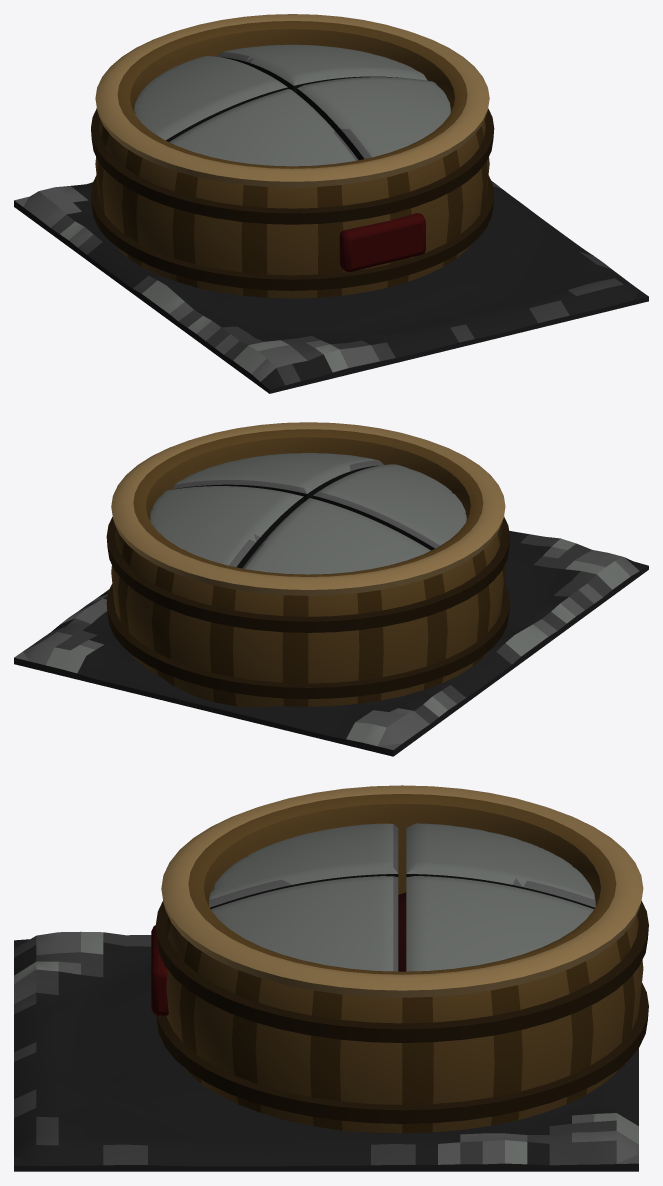
Rendered from eye_tub_193.glb.
The picture shows the model from 3 angles, top to bottom: view 1: azimuth 30°, elevation 25°; view 2: azimuth 150°, elevation 25°; view 3: azimuth 270°, elevation 25°; orthographic projection. The views are drawn at different scales.
Visible parts, largest first — view 1: floor, tub, rim, iris2, iris3, band6.0, band2.0, iris1, iris0, front_light; view 2: tub, floor, rim, iris1, iris0, band6.0, iris2, band2.0, iris3; view 3: floor, tub, rim, iris3, iris0, band6.0, band2.0, iris2, iris1, front_light, eye.
Boxes of the visible parts, x1,y1,x2,y2 form: floor: (14, 181, 648, 393); tub: (95, 21, 489, 298); rim: (95, 14, 489, 187); iris2: (169, 89, 358, 166); iris3: (297, 77, 450, 159); band6.0: (91, 108, 494, 224); band2.0: (91, 175, 494, 290); iris1: (134, 56, 287, 141); iris0: (217, 44, 427, 93); front_light: (339, 213, 425, 271); tub: (111, 429, 505, 707); floor: (14, 530, 648, 756); rim: (111, 422, 505, 595); iris1: (242, 498, 430, 574); iris0: (150, 486, 303, 568); band6.0: (106, 516, 509, 632); iris2: (313, 464, 466, 550); band2.0: (106, 583, 509, 698); iris3: (173, 453, 383, 501); floor: (14, 931, 638, 1171); tub: (166, 794, 643, 1133); rim: (161, 785, 643, 997); iris3: (210, 876, 398, 971); iris0: (406, 876, 593, 971); band6.0: (155, 901, 648, 1042); band2.0: (156, 982, 648, 1123); iris2: (209, 823, 398, 909); iris1: (406, 823, 595, 908); front_light: (151, 925, 168, 1015); eye: (398, 892, 406, 971).
Size of the model in its own units: 24 by 9.02 by 28.45.
